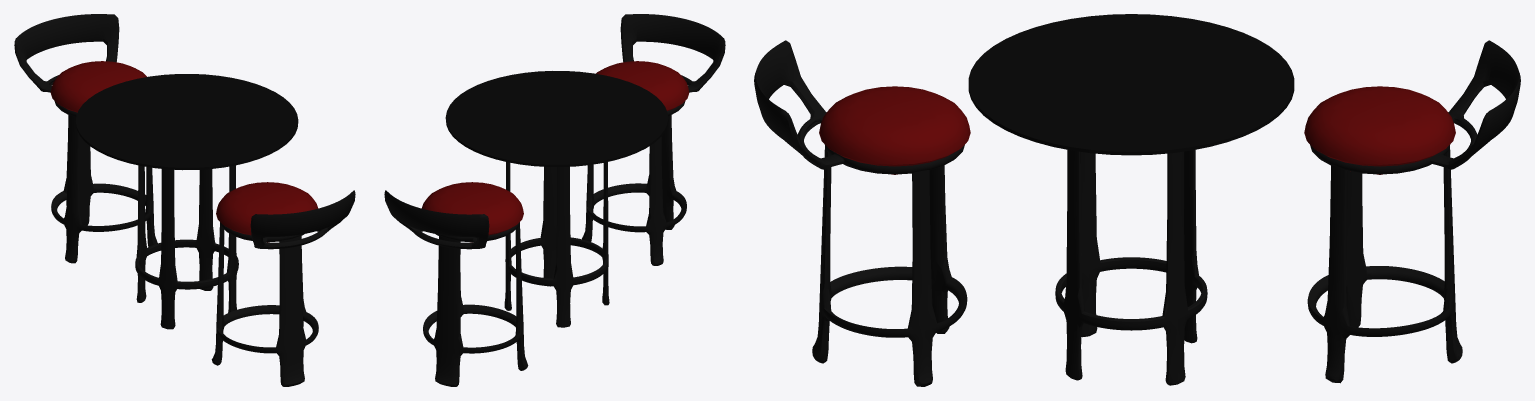
File: table2.fbx
The picture shows the model from 3 angles, left to right: view 1: azimuth 30°, elevation 25°; view 2: azimuth 150°, elevation 25°; view 3: azimuth 270°, elevation 25°; orthographic projection. The views are drawn at different scales.
Visible parts, largest first — view 1: Mesh; view 2: Mesh; view 3: Mesh.
Boxes of the visible parts, <box> form: Mesh: <box>14,14,355,386</box>; Mesh: <box>384,14,725,386</box>; Mesh: <box>754,14,1520,386</box>.
Bounding box in the file's own units: 21.26 × 20.43 × 49.93.
